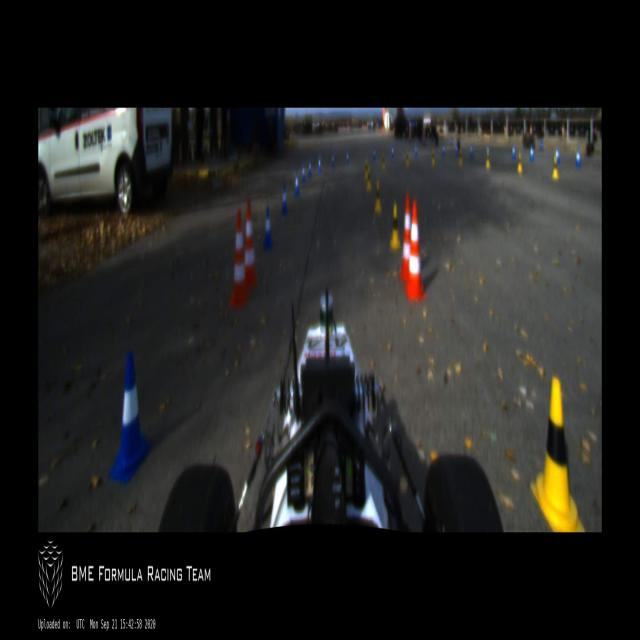blue_cone: (111, 352, 151, 481), (263, 208, 273, 250), (280, 183, 288, 214), (576, 148, 582, 169), (294, 172, 299, 195), (301, 162, 306, 184), (308, 158, 312, 178), (318, 155, 322, 173), (530, 144, 533, 160), (512, 144, 515, 158), (346, 150, 349, 162), (442, 144, 445, 155), (373, 148, 376, 158), (470, 146, 473, 156), (332, 155, 334, 166), (392, 146, 394, 156), (415, 146, 417, 156)
large_orange_cone: (406, 201, 426, 299), (229, 210, 248, 308), (398, 194, 411, 283), (244, 202, 257, 290)
yellow_cone: (530, 376, 584, 532), (389, 204, 401, 250), (374, 180, 382, 212), (552, 154, 559, 178), (517, 150, 523, 173), (366, 171, 372, 192), (405, 150, 410, 168), (486, 148, 490, 170), (365, 158, 368, 180), (382, 152, 385, 171), (459, 149, 462, 165), (432, 148, 435, 163)
